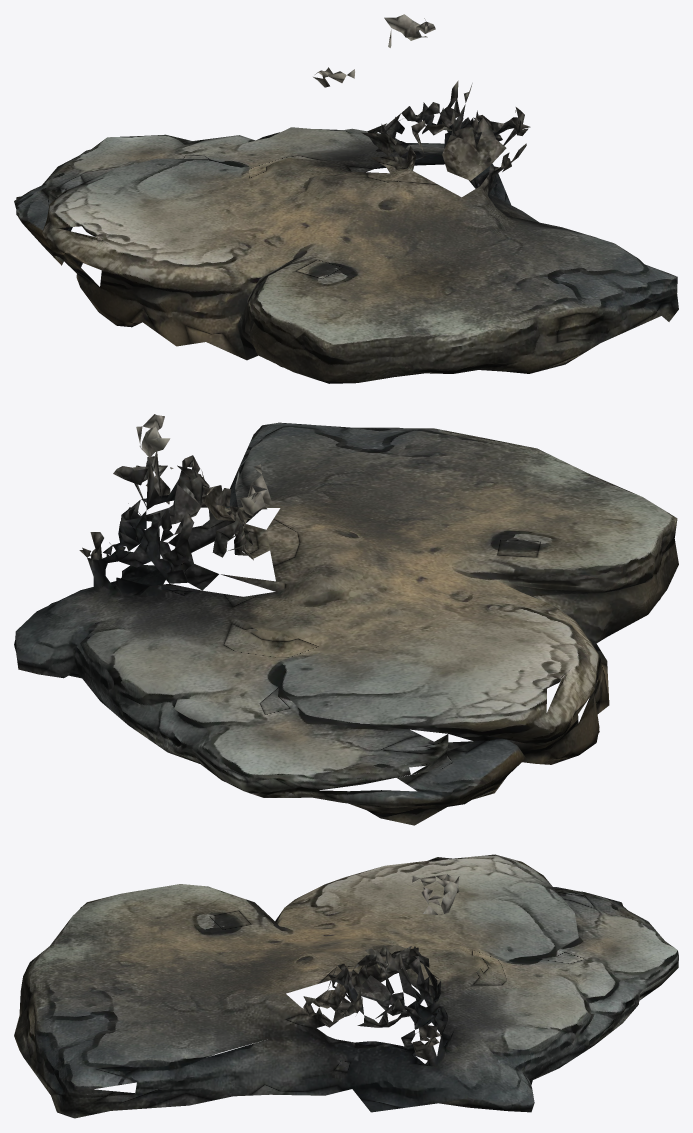
The model's file is desert-hill-2.glb.
The picture shows the model from 3 angles, top to bottom: view 1: azimuth 30°, elevation 25°; view 2: azimuth 150°, elevation 25°; view 3: azimuth 270°, elevation 25°; orthographic projection. The views are drawn at different scales.
Parts seen in each view (by area): view 1: geometry_0; view 2: geometry_0; view 3: geometry_0.
Part boxes in pixels (x1,y1,x2,y2): geometry_0: (14,14,678,383); geometry_0: (14,414,678,825); geometry_0: (14,854,678,1118).
Size of the model in its own units: 0.7806 by 0.3563 by 0.9953.
1 material, 1 textured.
